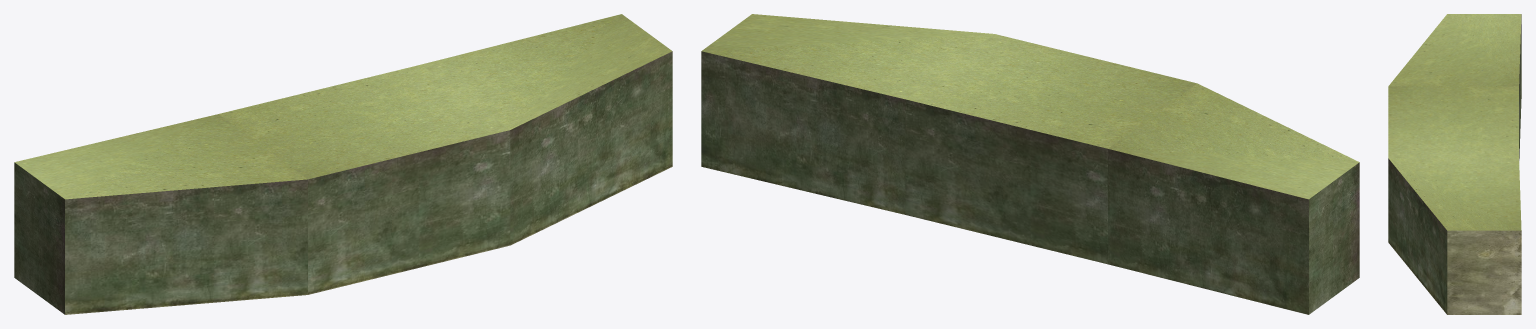
The model's file is STOYKA.fbx.
The picture shows the model from 3 angles, left to right: view 1: azimuth 30°, elevation 25°; view 2: azimuth 150°, elevation 25°; view 3: azimuth 270°, elevation 25°; orthographic projection. The views are drawn at different scales.
Parts seen in each view (by area): view 1: Cube.001; view 2: Cube.001; view 3: Cube.001.
Part boxes in pixels (<box>): Cube.001: <box>14,14,672,314</box>; Cube.001: <box>701,14,1359,314</box>; Cube.001: <box>1388,14,1521,314</box>.
Bounding box in the file's own units: 1587 × 288 × 412.
Materials: 2 (2 with a texture image).
